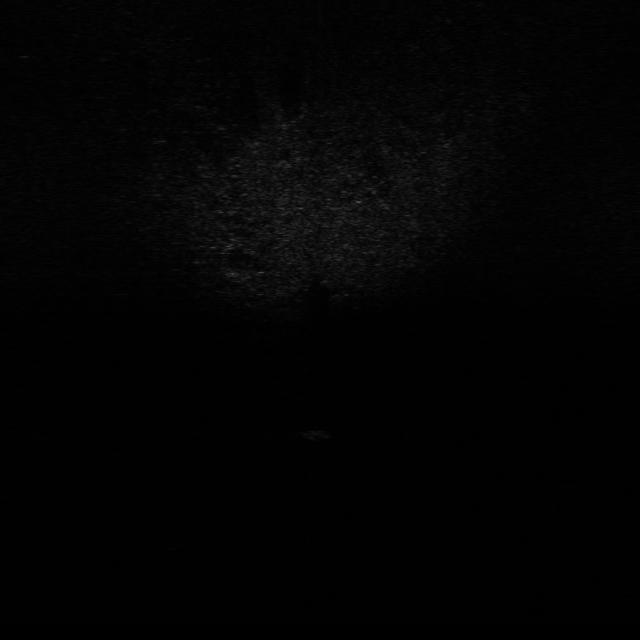cube: (302, 421, 334, 443)
